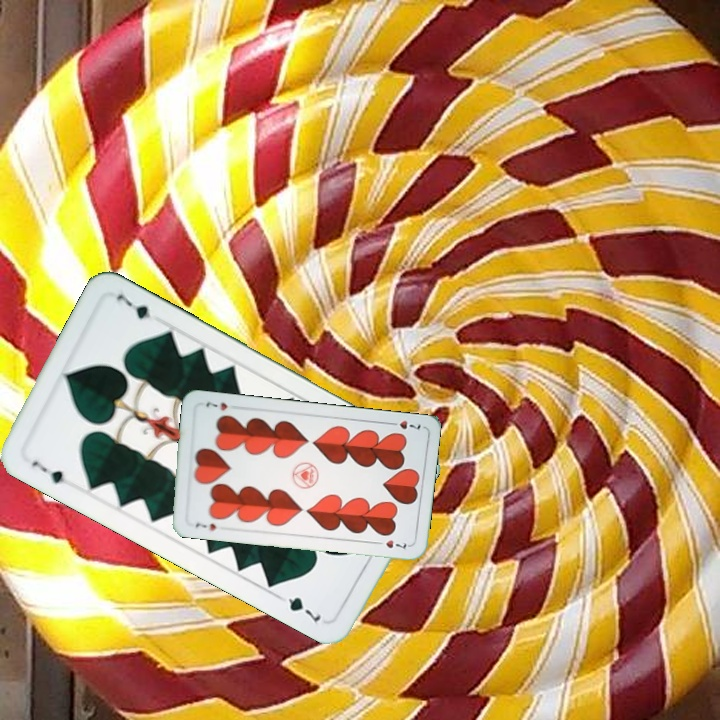G7: (28, 456, 67, 486)
H7: (384, 416, 423, 432), (191, 518, 222, 533)
